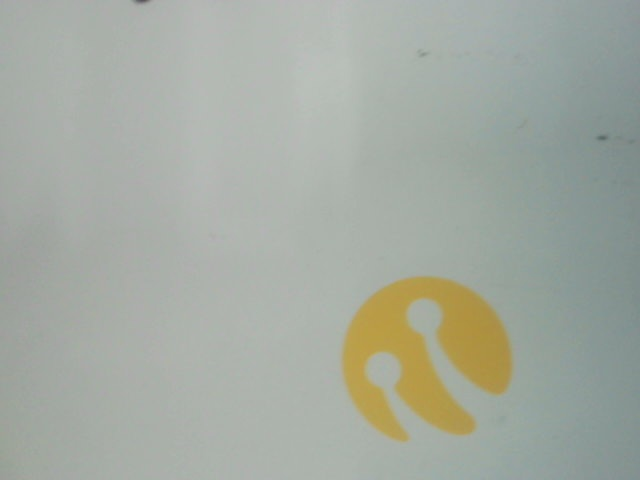AV_H3600Yellow: (335, 263, 517, 439)
